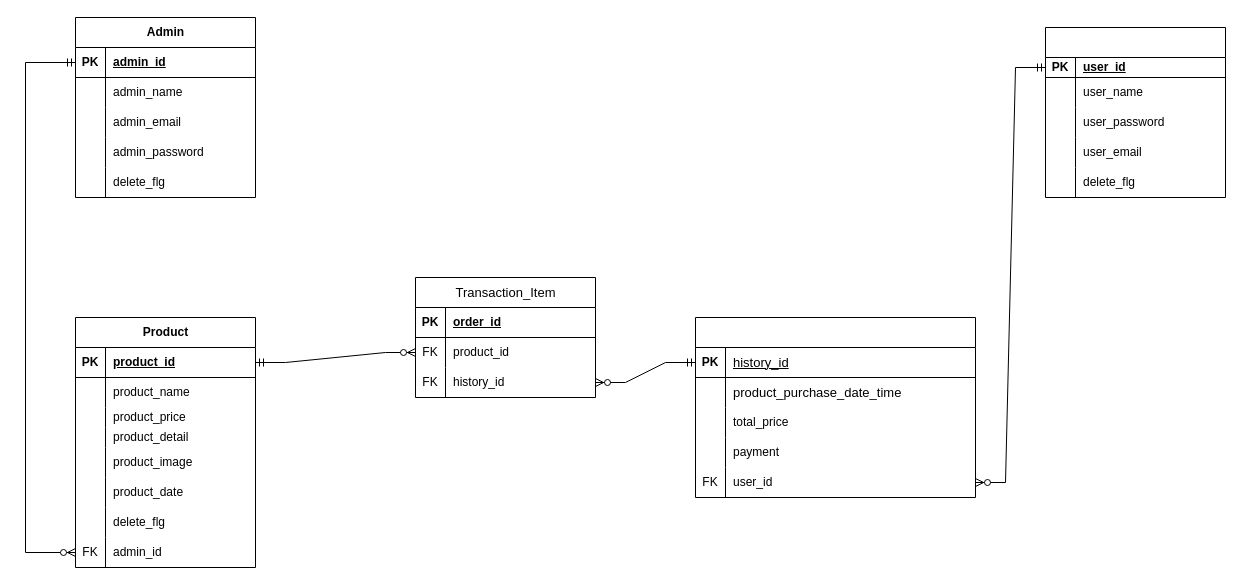
Some shapes in this 1243 by 585 pixel diagram are drawn without their labels. The shapes that lost their labels are listed below. From the top down, each one's box as (x1, y1, x2, y2) in pixels, then its label:
(1044, 26, 1226, 198): Users
(694, 316, 976, 498): Transaction_History
